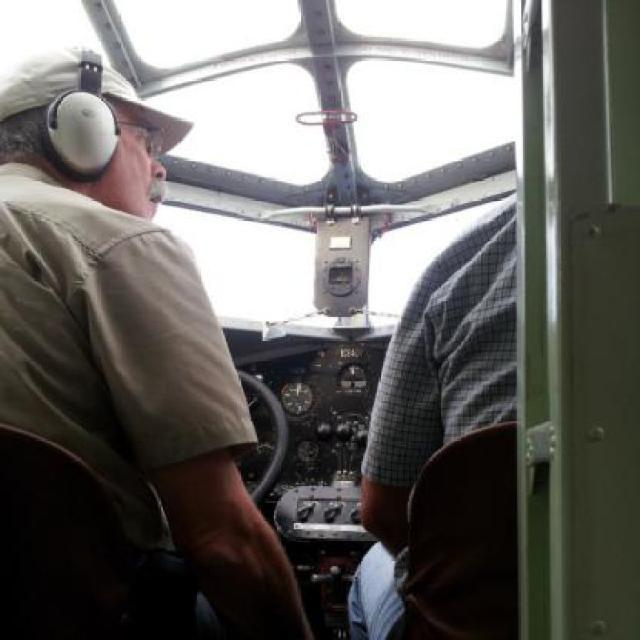earphone: (40, 45, 158, 192)
